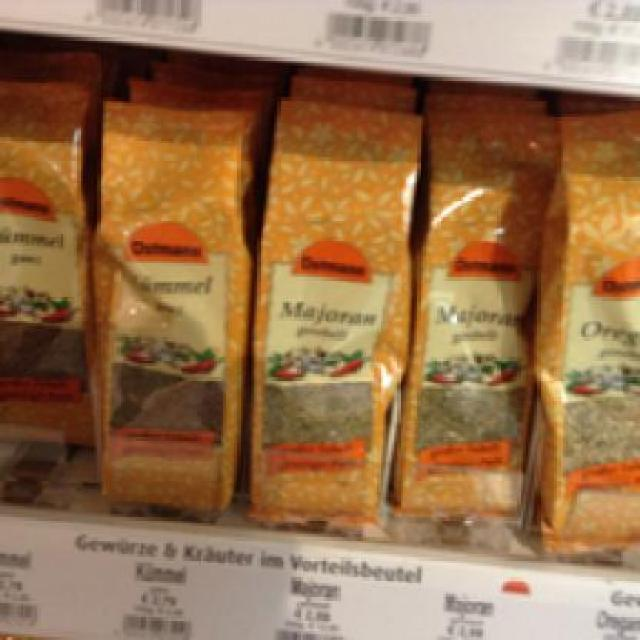Spices: (257, 94, 412, 534), (92, 94, 248, 517), (400, 108, 543, 526), (540, 102, 637, 555), (0, 77, 92, 443)
